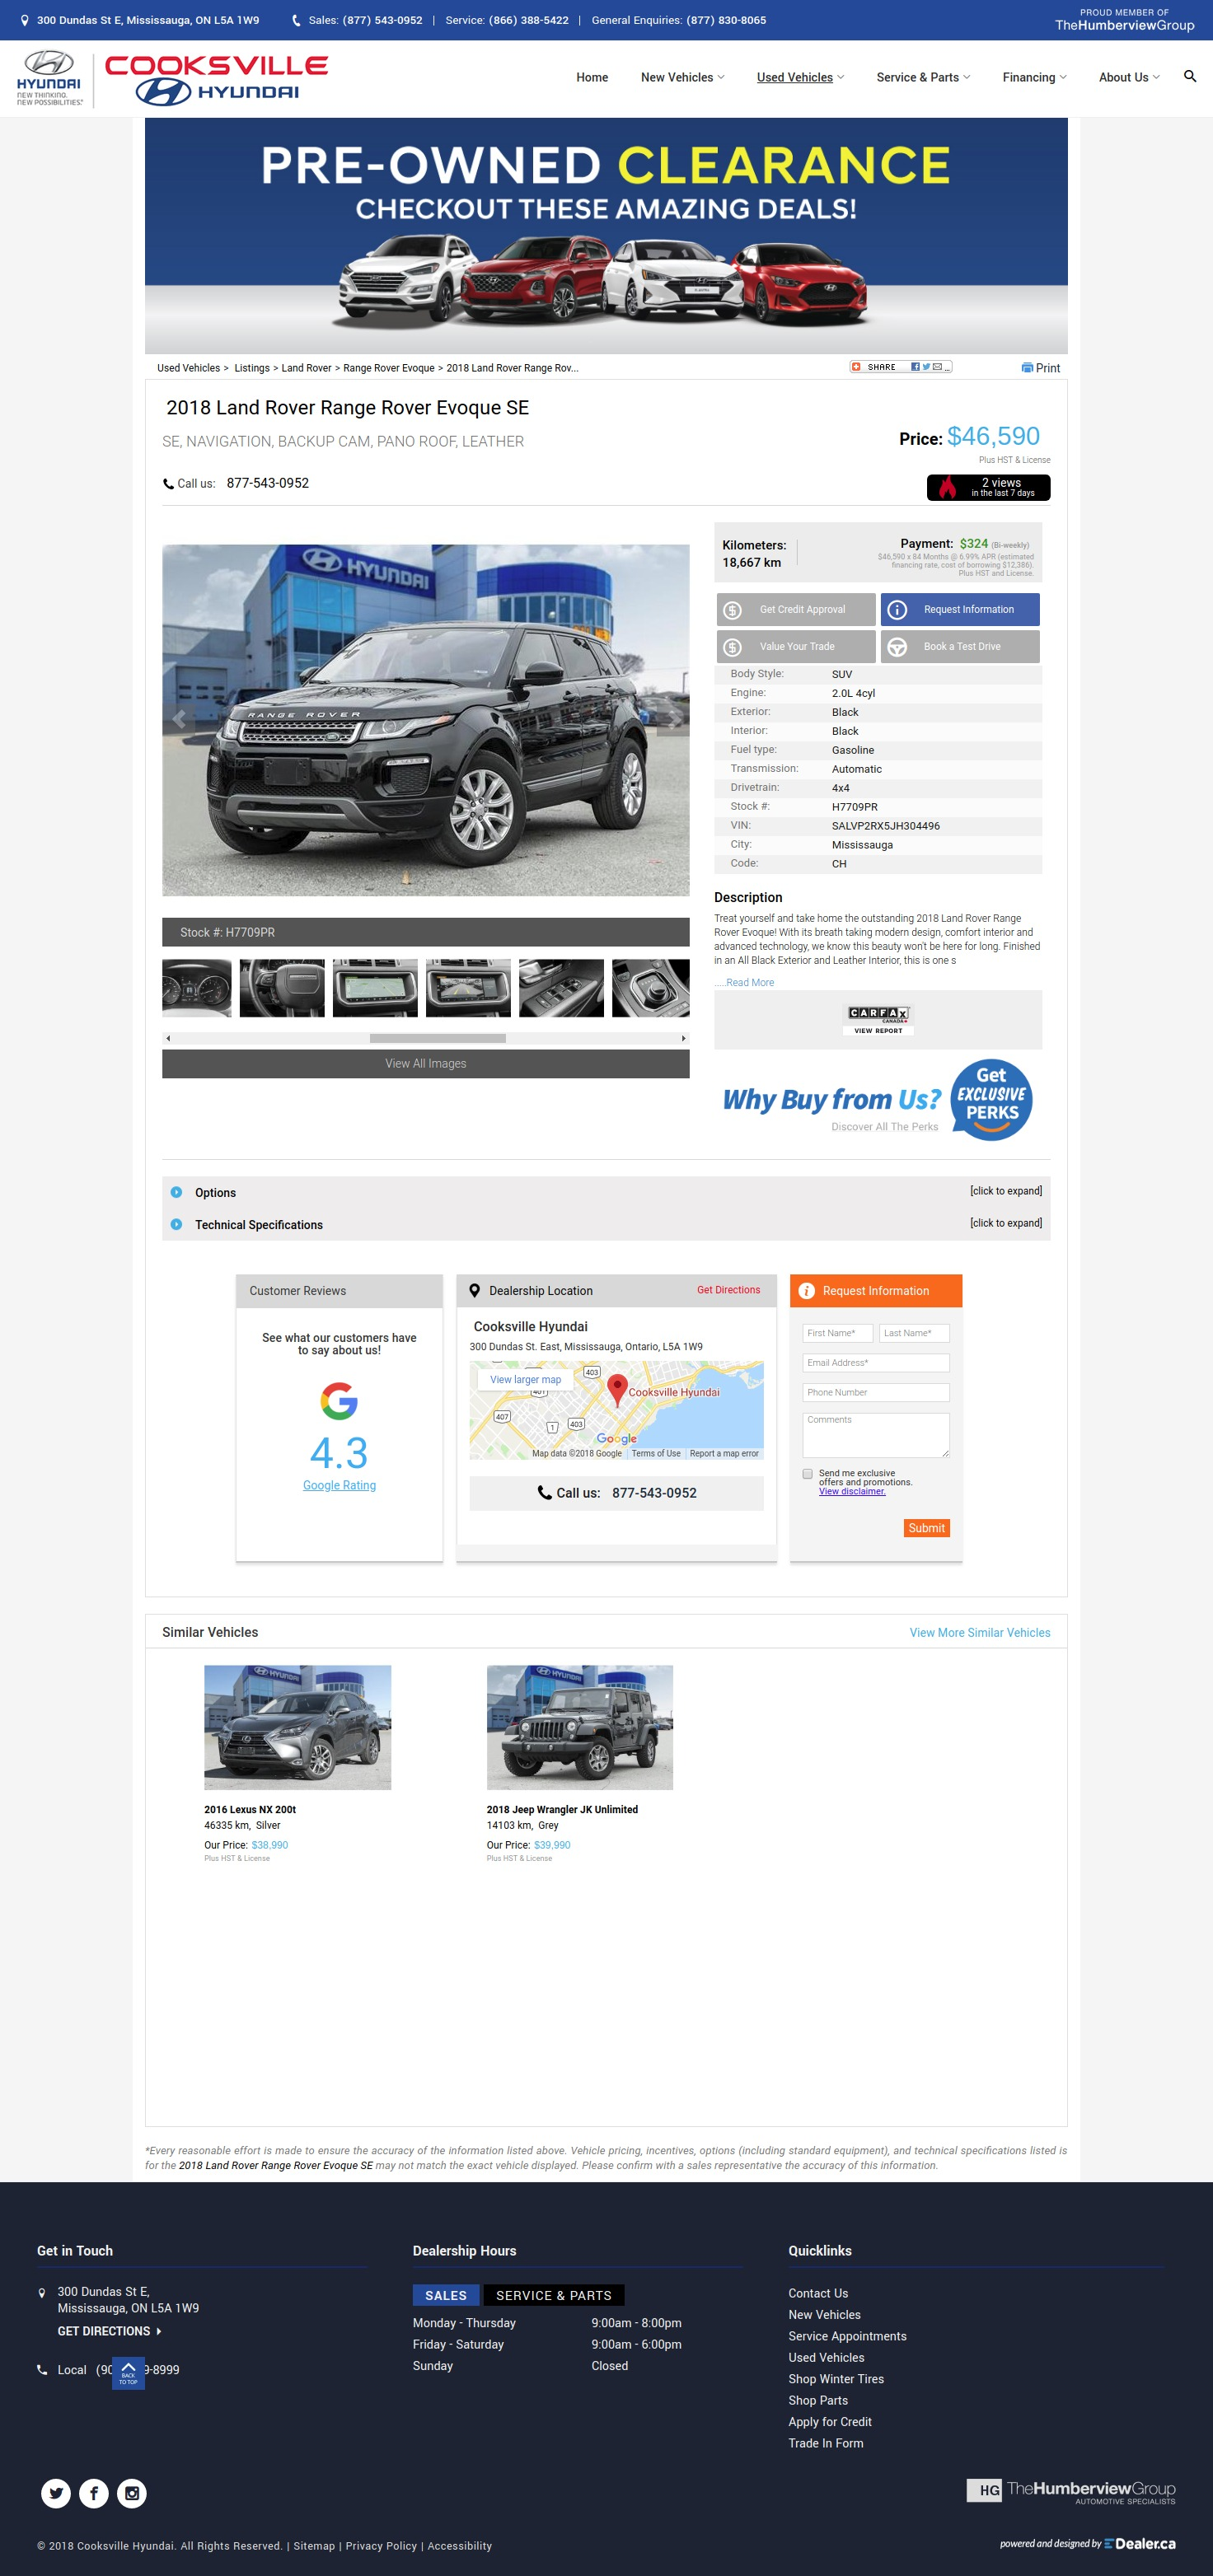car: (682, 1035, 687, 1043)
